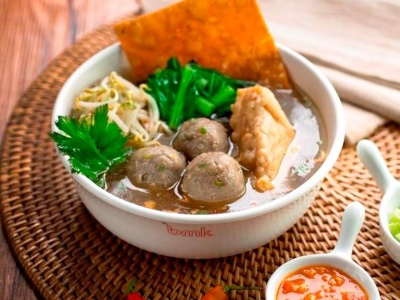bakso: (122, 101, 256, 206)
